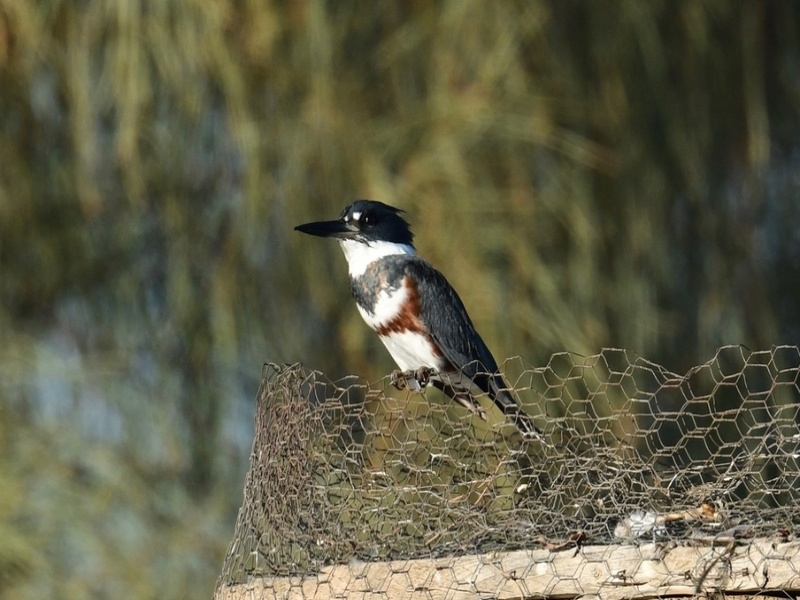kingfisher: (292, 196, 541, 438)
